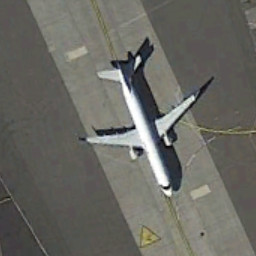Airplane: (77, 47, 208, 213)
